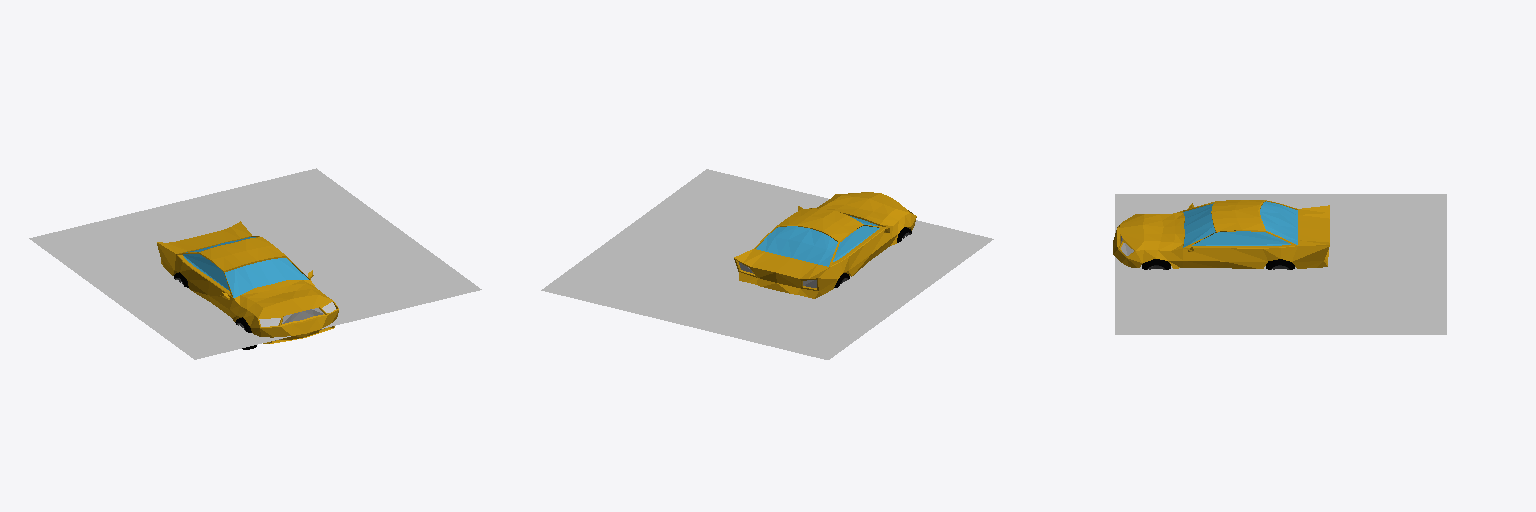
The model's file is car.obj.
3 renders of one model, left to right at view 1: azimuth 30°, elevation 25°; view 2: azimuth 150°, elevation 25°; view 3: azimuth 270°, elevation 25°, orthographic.
Parts seen in each view (by area): view 1: Plane, Cube_Cube.001; view 2: Plane, Cube_Cube.001; view 3: Plane, Cube_Cube.001.
Boxes of the visible parts, box(x1,y1,x2,y2) form: Plane: box(29, 168, 481, 359); Cube_Cube.001: box(157, 221, 338, 349); Plane: box(541, 169, 993, 359); Cube_Cube.001: box(734, 192, 916, 298); Plane: box(1115, 194, 1446, 334); Cube_Cube.001: box(1113, 200, 1329, 269).
Size of the model in its own units: 7.8 by 1.54 by 7.84.